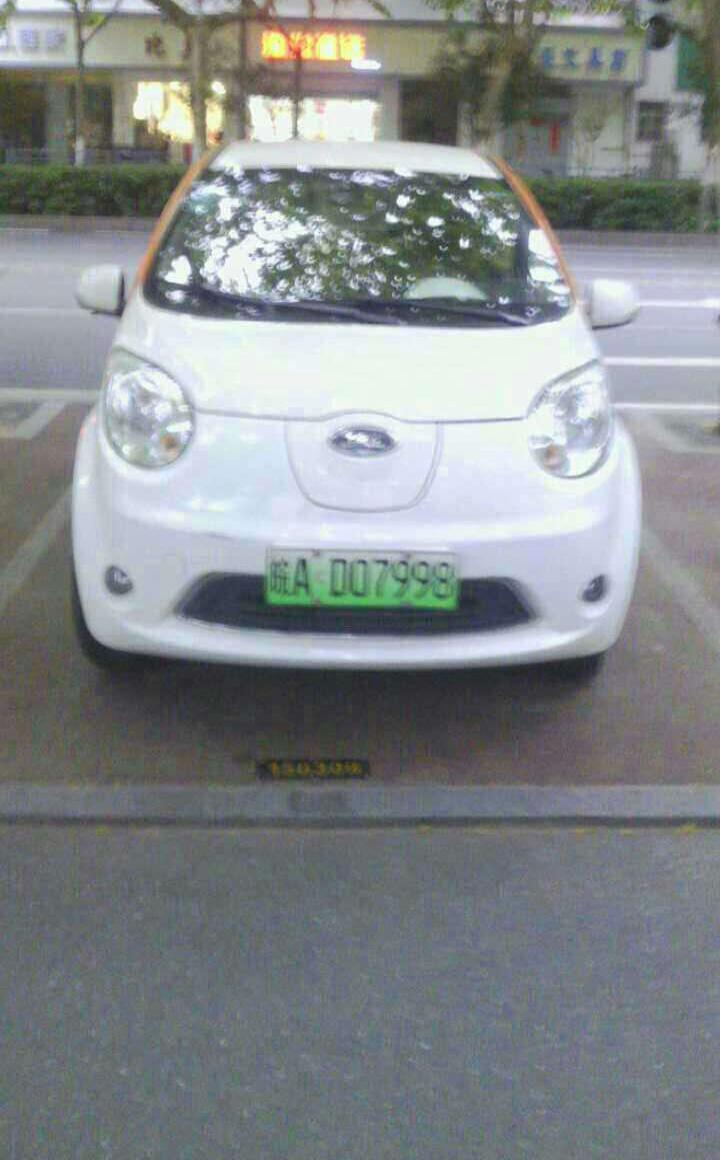car: (263, 548, 459, 614)
